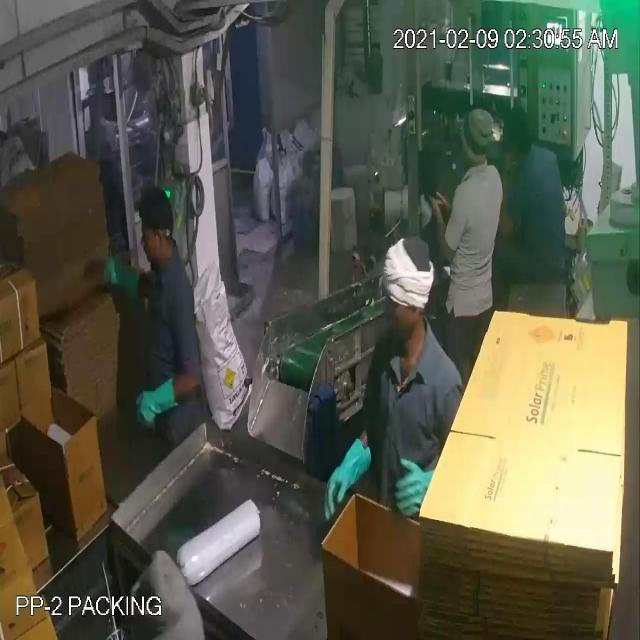Gloves: (41, 60, 441, 490)
